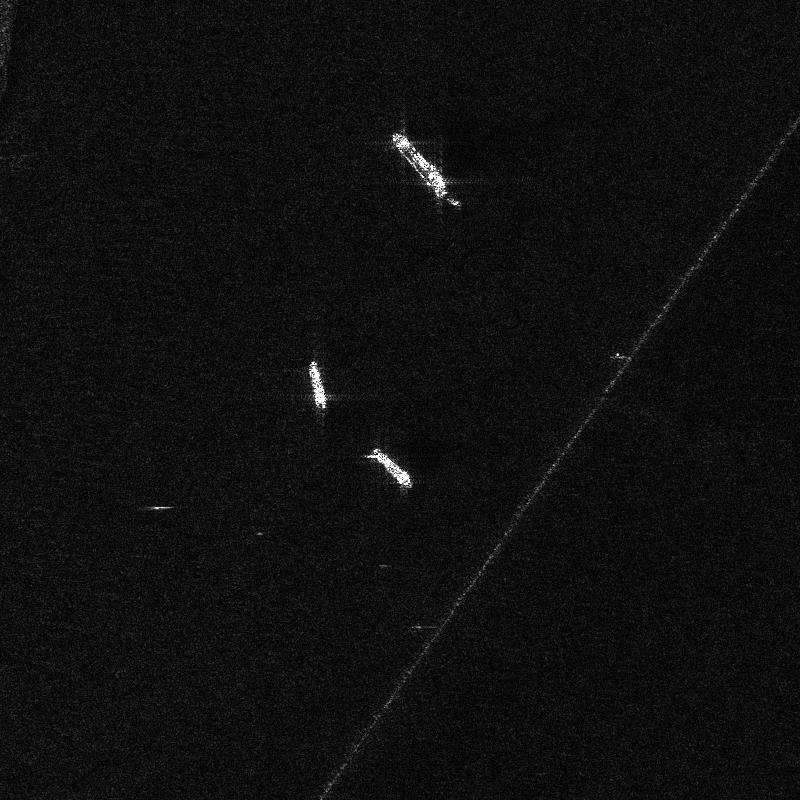ship: (391, 131, 461, 205), (365, 449, 412, 488), (308, 360, 326, 409)
